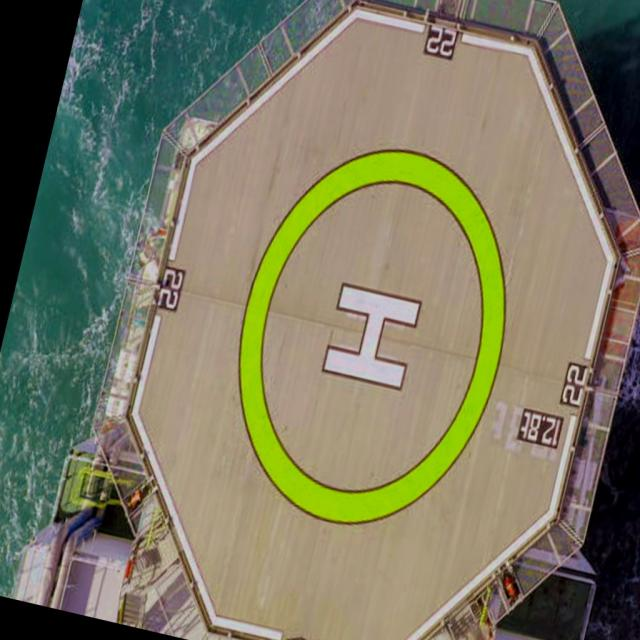helipad: (225, 139, 514, 529)
